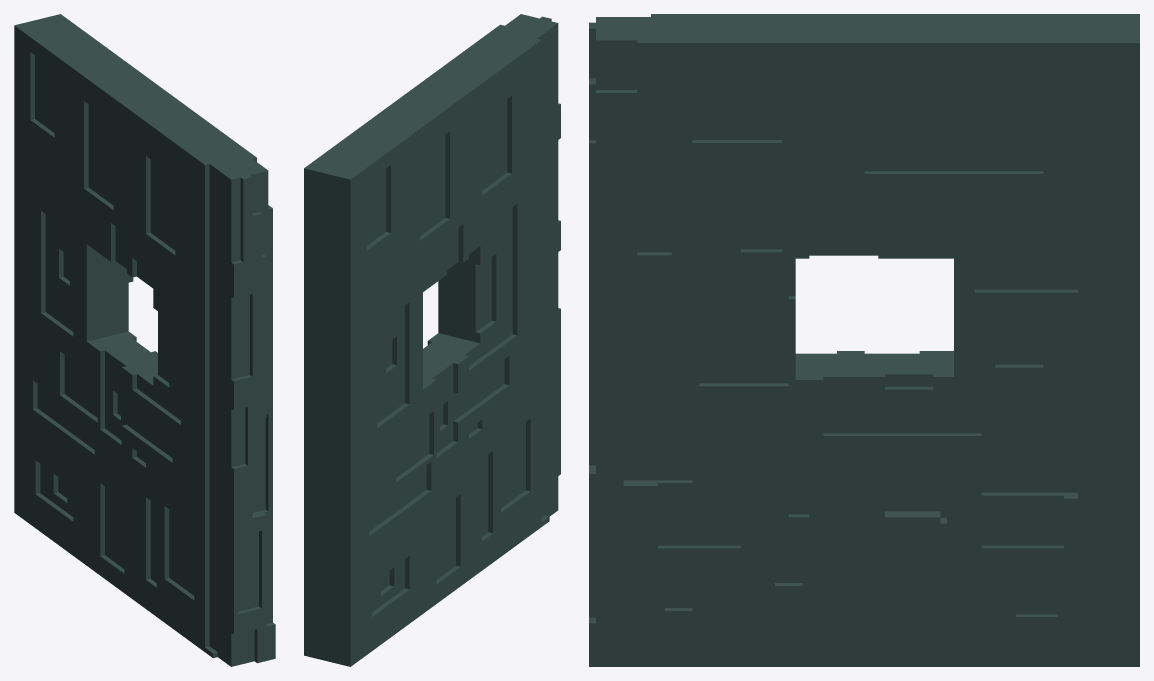
Rendered from wallMid.obj.
The picture shows the model from 3 angles, left to right: view 1: azimuth 30°, elevation 25°; view 2: azimuth 150°, elevation 25°; view 3: azimuth 270°, elevation 25°; orthographic projection. The views are drawn at different scales.
Bounding box in the file's own units: 1 × 10 × 8.
1 material, 1 textured.
